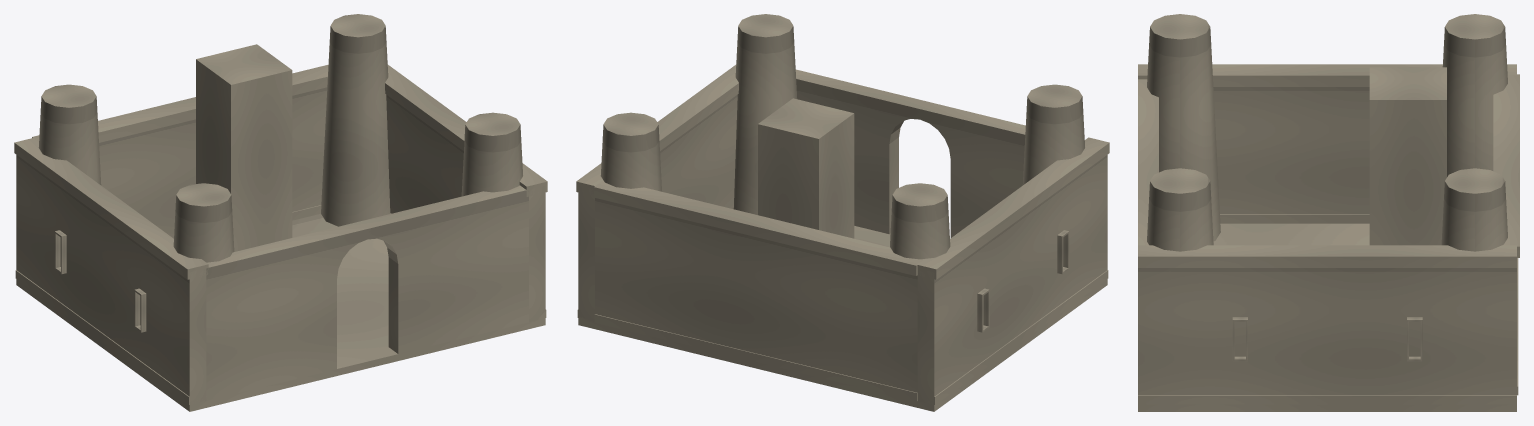
3 renders of one model, left to right at view 1: azimuth 30°, elevation 25°; view 2: azimuth 150°, elevation 25°; view 3: azimuth 270°, elevation 25°, orthographic. The views are drawn at different scales.
Parts seen in each view (by area): view 1: riyadh; view 2: riyadh; view 3: riyadh.
Part boxes in pixels (left/top/right/bottom): riyadh: left=14, top=14, right=547, bottom=411; riyadh: left=576, top=14, right=1109, bottom=411; riyadh: left=1138, top=14, right=1519, bottom=411.
Bounding box in the file's own units: 6.58 × 3.67 × 5.44.
1 material, 1 textured.
